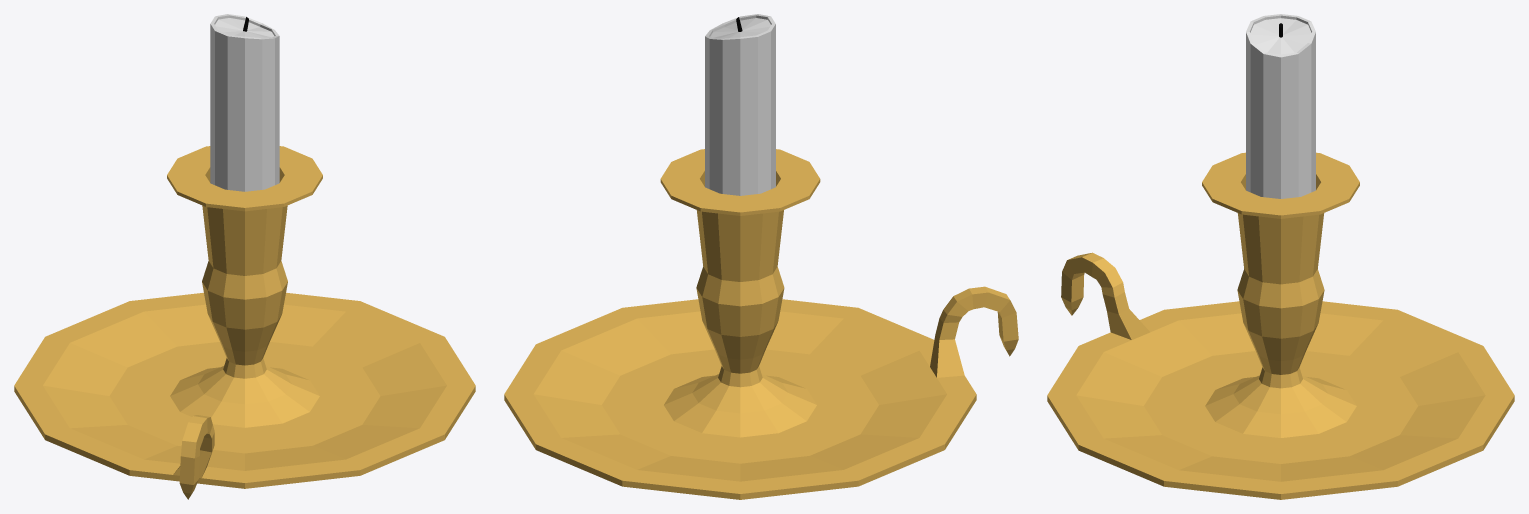
Rendered from candlestick.fbx.
3 renders of one model, left to right at view 1: azimuth 30°, elevation 25°; view 2: azimuth 150°, elevation 25°; view 3: azimuth 270°, elevation 25°, orthographic. The views are drawn at different scales.
Parts seen in each view (by area): view 1: Circle.004; view 2: Circle.004; view 3: Circle.004.
Part boxes in pixels (x1,y1,x2,y2): Circle.004: [14, 14, 475, 499]; Circle.004: [504, 14, 1018, 499]; Circle.004: [1047, 14, 1514, 499].
Bounding box in the file's own units: 321 × 295 × 321.
